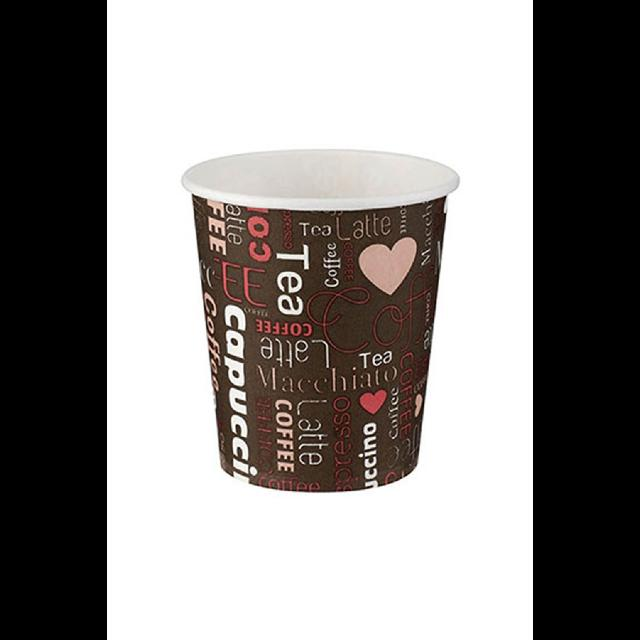trash: (171, 149, 474, 496)
